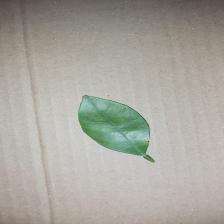greening: (74, 94, 158, 164)
